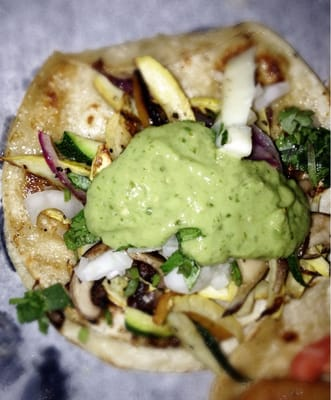curry: (86, 121, 308, 270)
